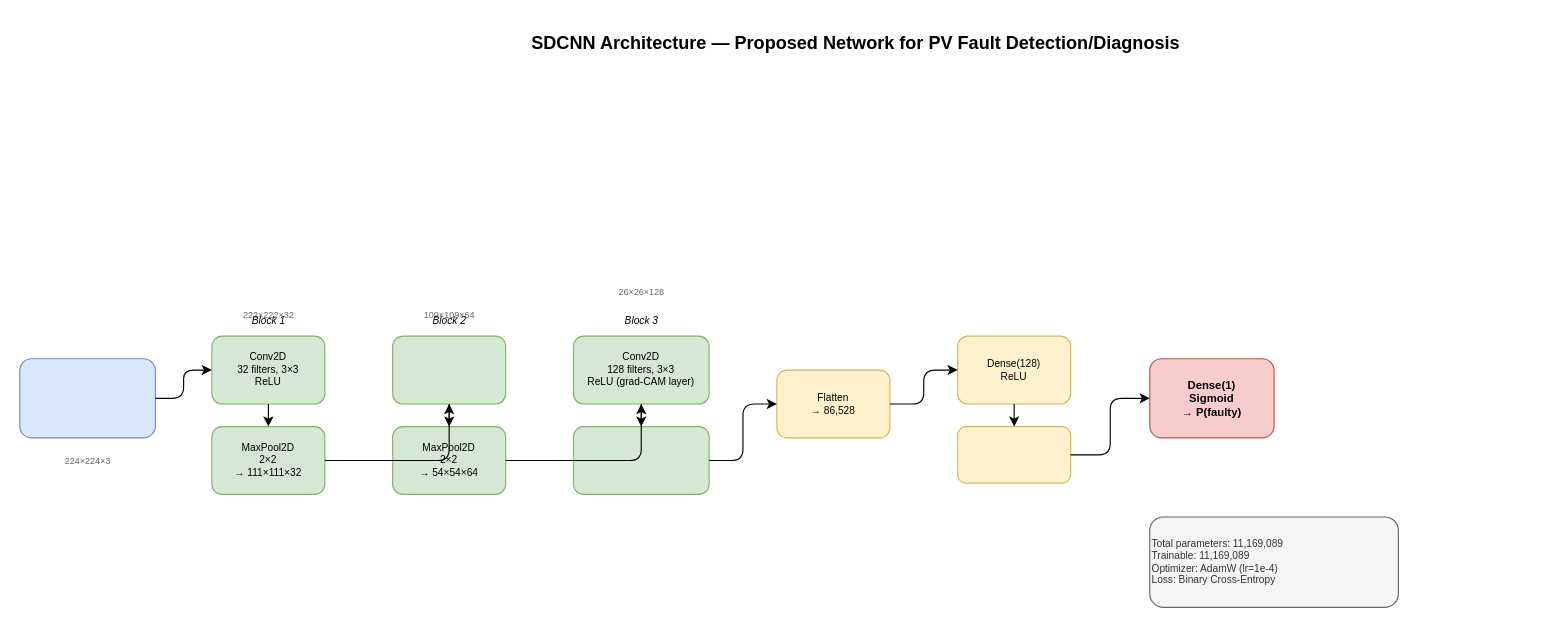
Image size: 1554x627. Some labels were removed from this diagram. Each missing label, with the centre of its shape:
Conv2D 64 filters, 3×3 ReLU: the point at 449,369
Dropout(0.5): the point at 1014,454
Input 224 × 224 × 3 (RGB IRT image): the point at 87,398
MaxPool2D 2×2 → 26×26×128: the point at 640,459
